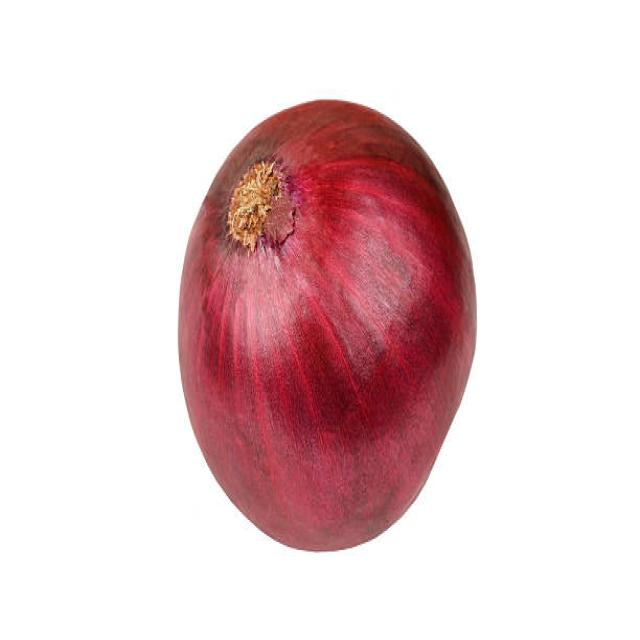onion: (174, 82, 484, 559)
